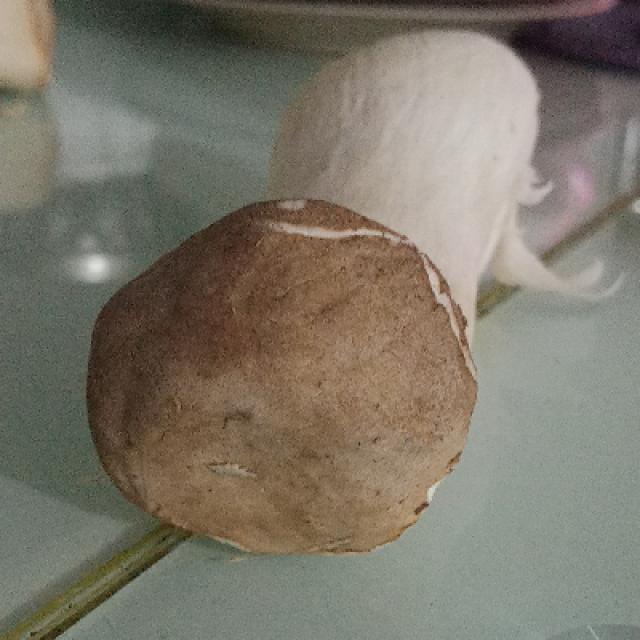Pleurotus eryngii: (91, 29, 541, 557)
